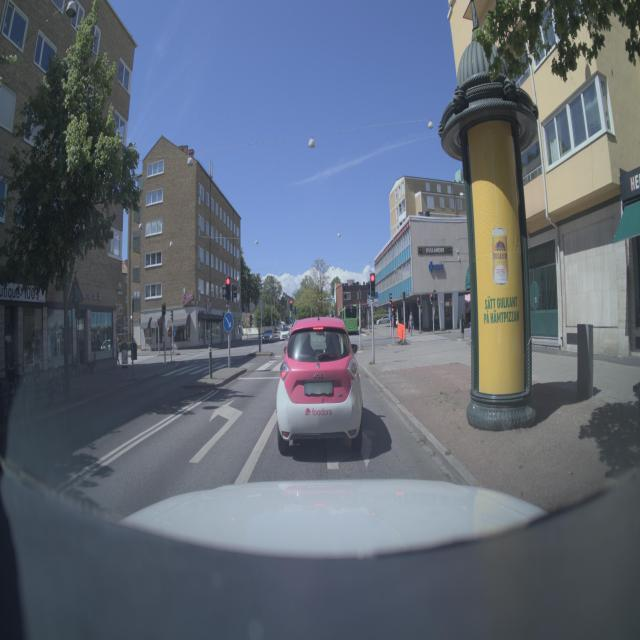red_light: (220, 270, 234, 303), (369, 267, 378, 299)
